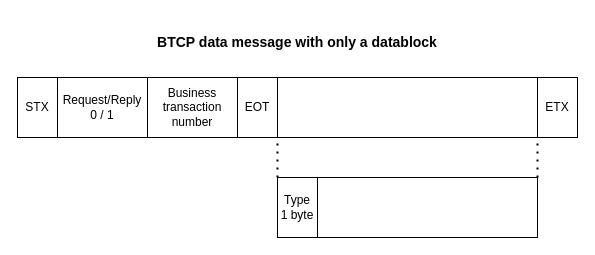
This 595x255 diagram has some shape labels left out. Here are the shapes that lost their labels. From the top down, the box of each, then its label:
(276, 76, 538, 138): Datablock
(306, 176, 538, 238): Datablock payload n bytes
